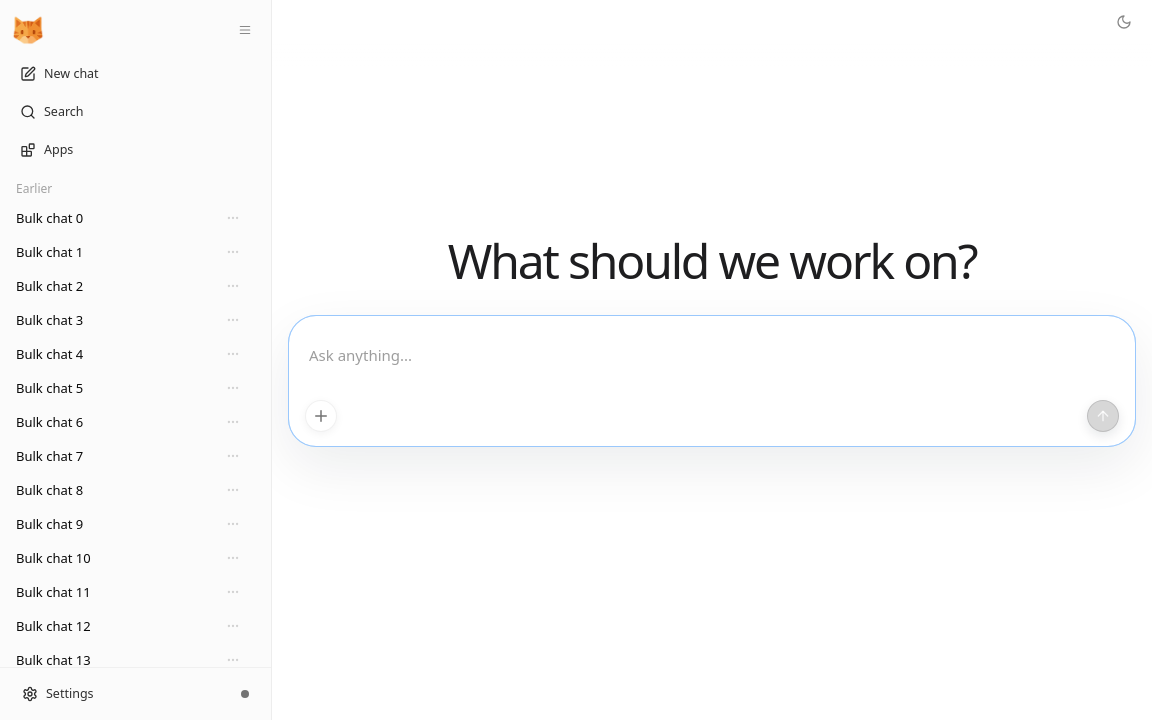
Test: App layout › keeps large sidebars light while search still covers every chat
expect the button "Bulk chat 0" is shown: met, box [16, 202, 189, 234]
expect the text "Hidden target" is not shown: met
Click the button "Search".
click(136, 112)  # box [8, 96, 263, 128]
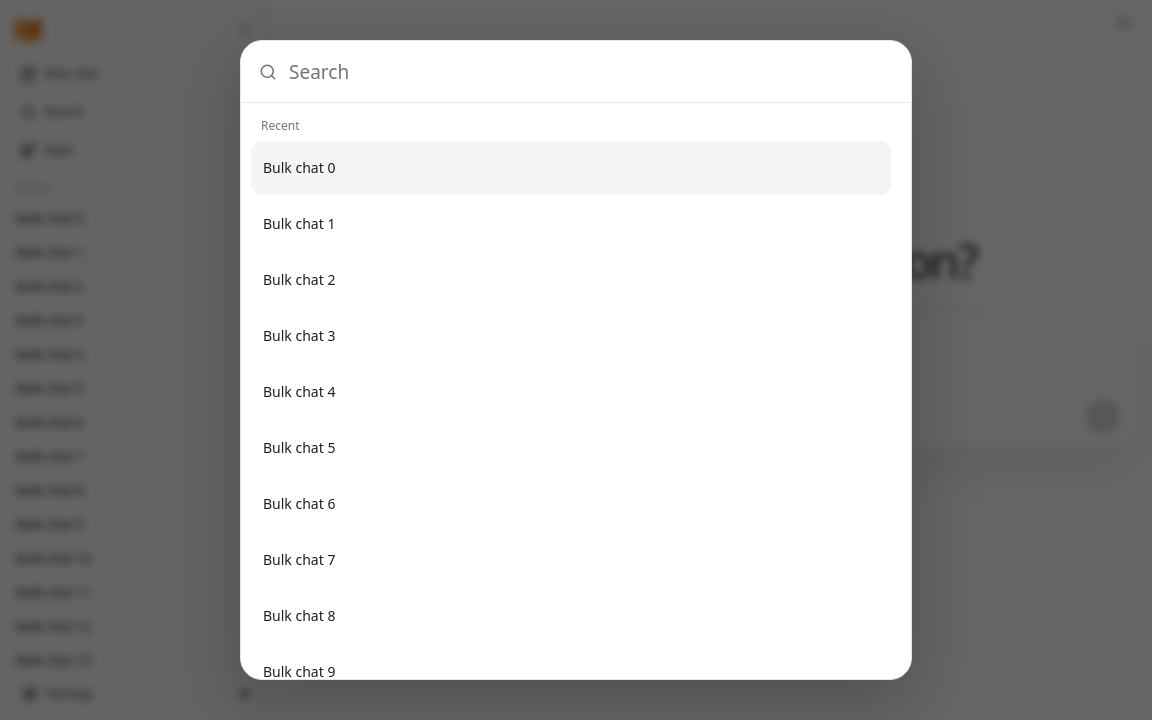
Type "hidden" into the field labelled "Search".
click(591, 72); type("hidden")  # box [289, 41, 893, 102]
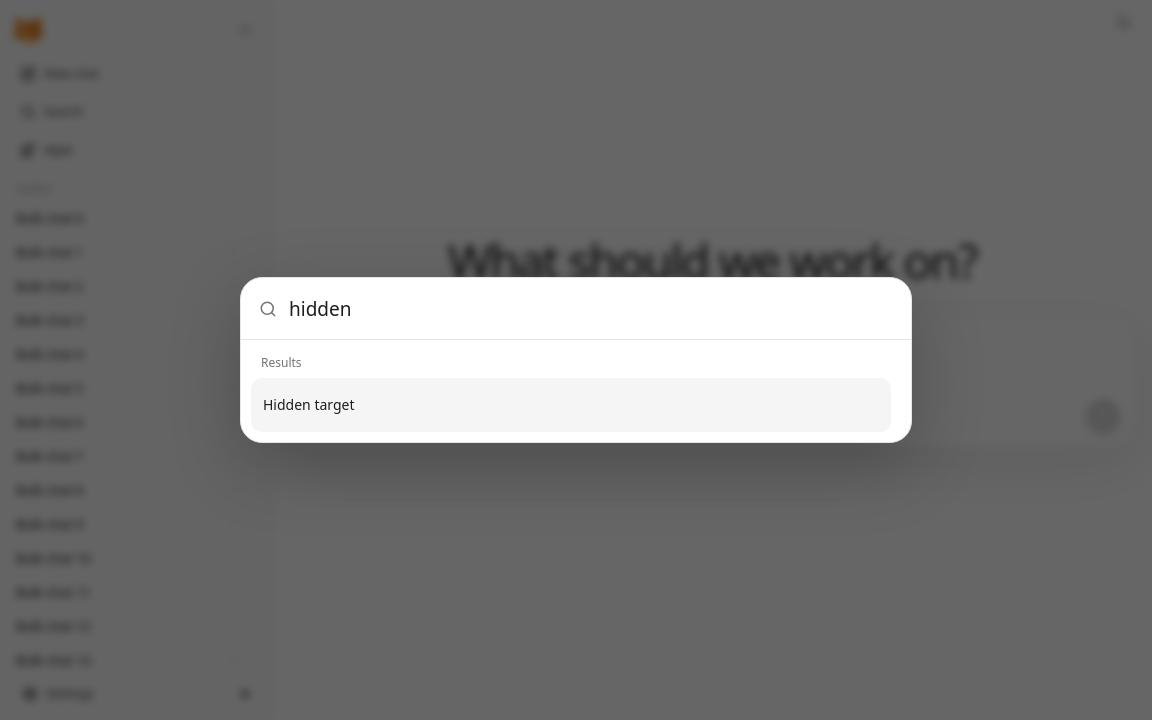
expect the text "Hidden target" is shown: met, box [263, 395, 354, 414]
